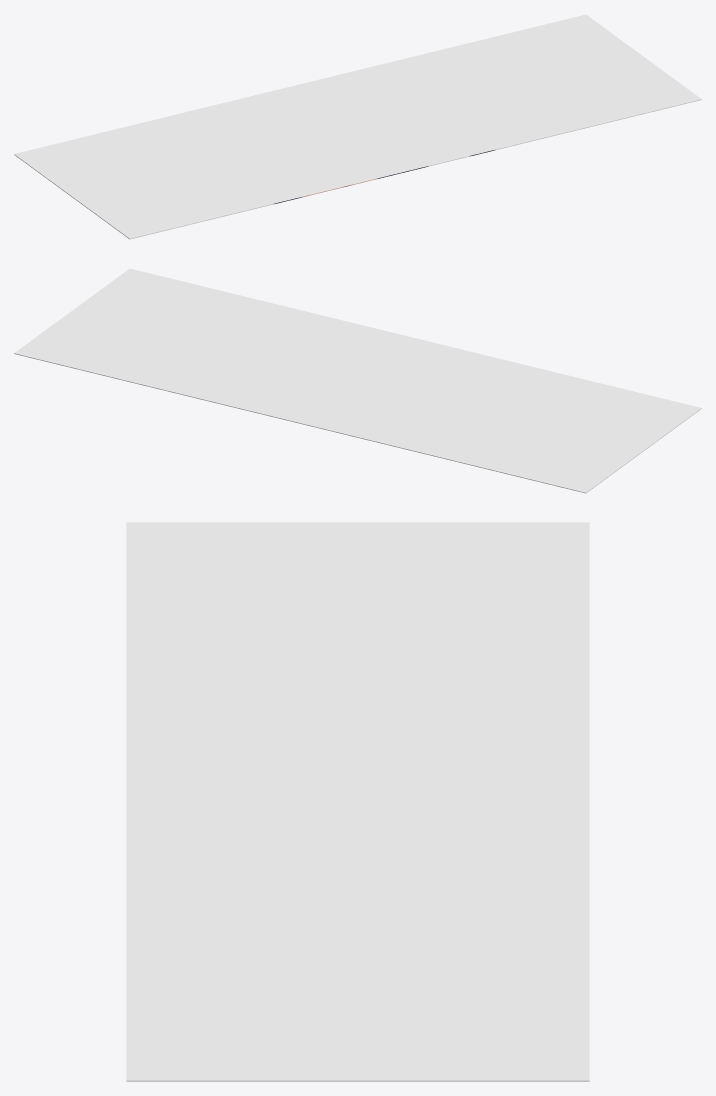
The model's file is Level 93 water jar.fbx.
The picture shows the model from 3 angles, top to bottom: view 1: azimuth 30°, elevation 25°; view 2: azimuth 150°, elevation 25°; view 3: azimuth 270°, elevation 25°; orthographic projection. The views are drawn at different scales.
Visible parts, largest first — view 1: Blend; view 2: Blend; view 3: Blend.
Boxes of the visible parts, bbox=[...] form: Blend: bbox=[14, 14, 701, 239]; Blend: bbox=[14, 268, 701, 493]; Blend: bbox=[126, 522, 589, 1081].
Size of what is drawn, in the model's own units: 959 by 1 by 337.
